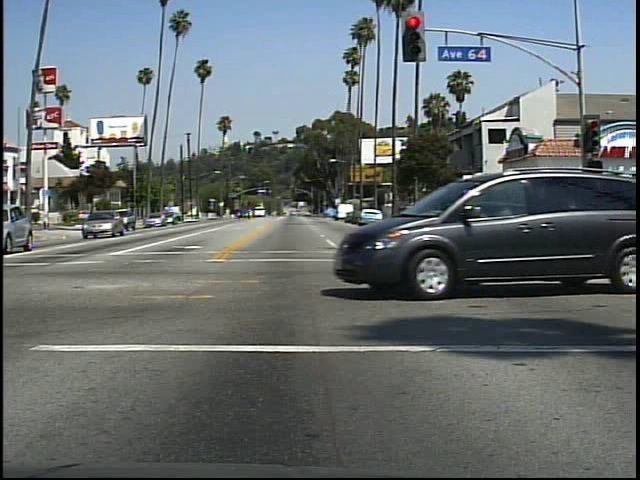person: (532, 194, 558, 247)
